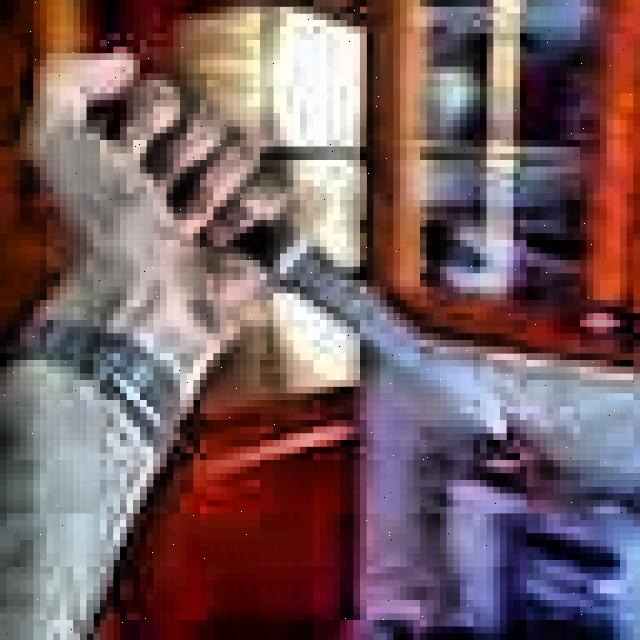knife: (95, 100, 512, 448)
